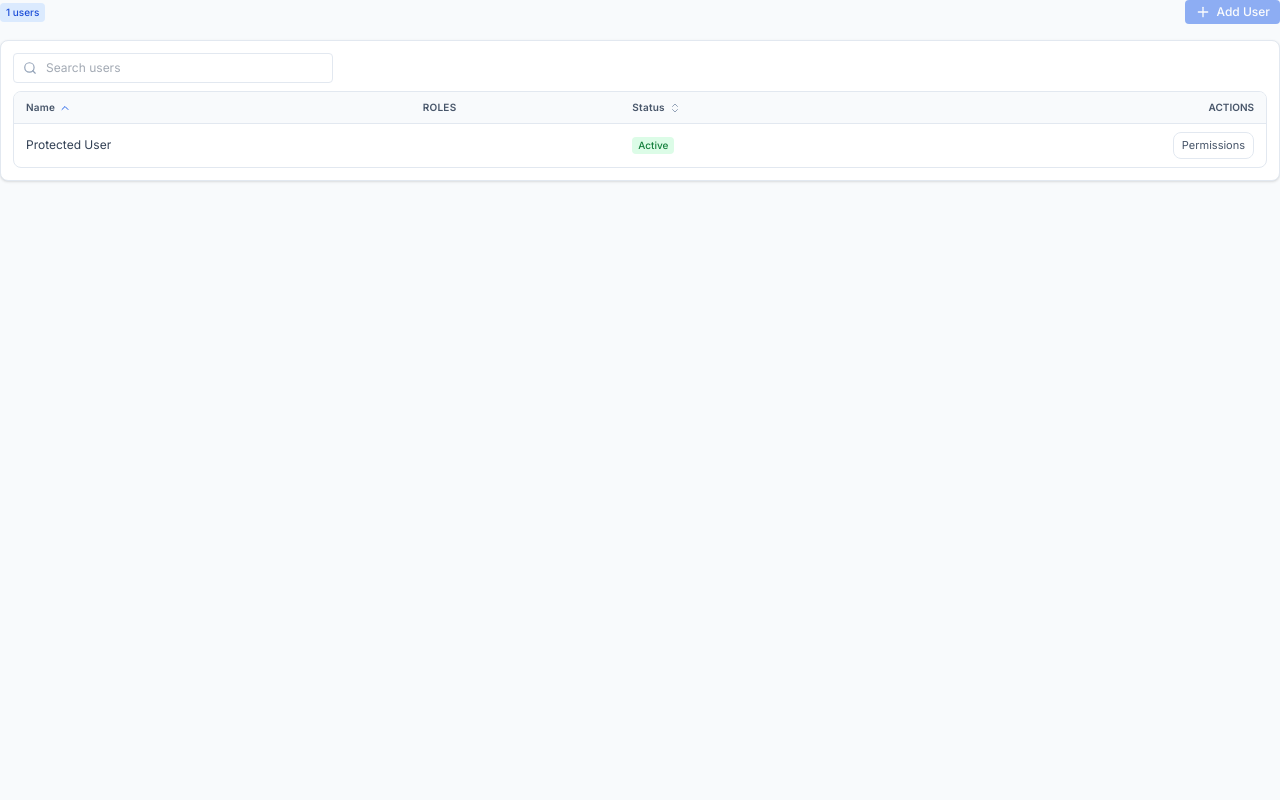
Test: User administration member permissions › does not render denied email or phone values and hides mutation controls
This screenshot has width=1280, height=800.
Check: the text "Protected User" is shown, box [14,124,411,166]
Check: the button "Add User" is disabled, box [1184,0,1279,24]
Click the button "Permissions" at (1213, 145), box [1173,132,1254,158]
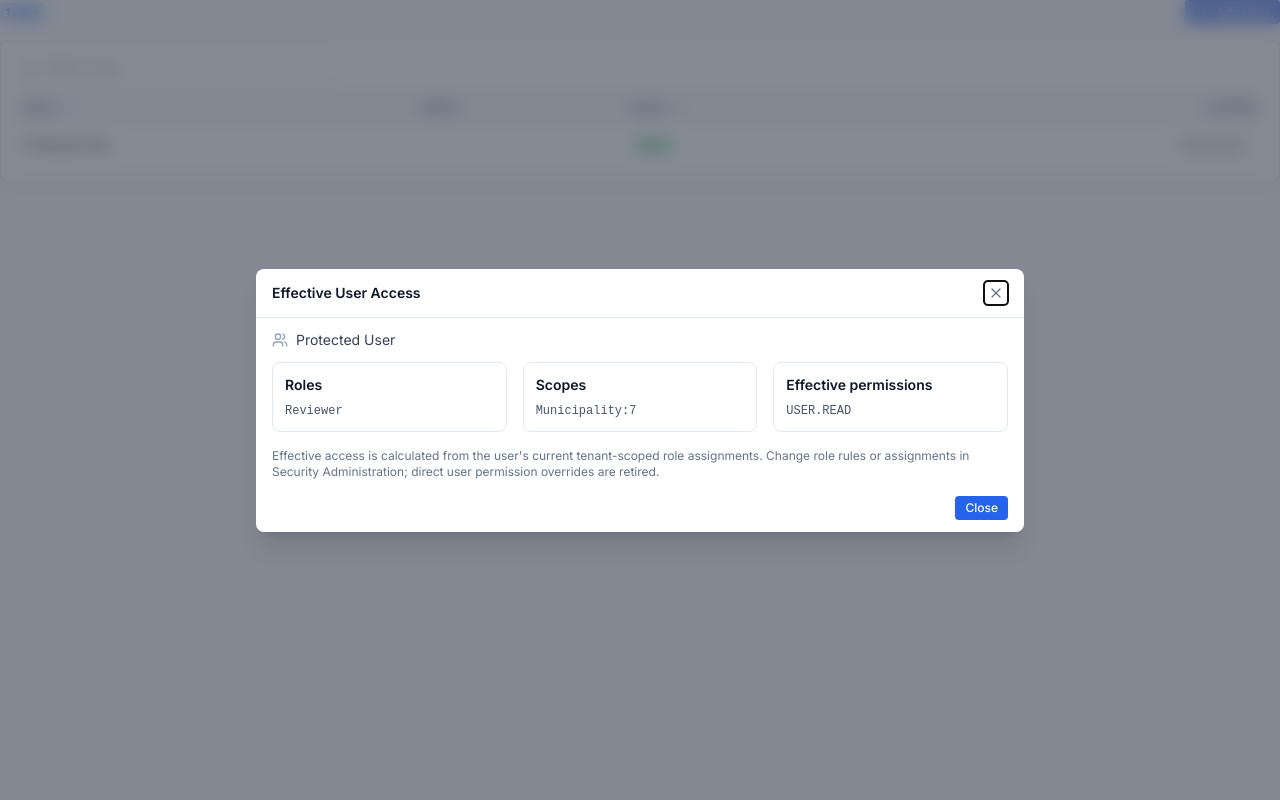
Check: the list item "USER.READ" is shown, box [786,404,851,418]
Check: the text "direct user permission overrides are retired" is shown, box [272,448,969,478]
